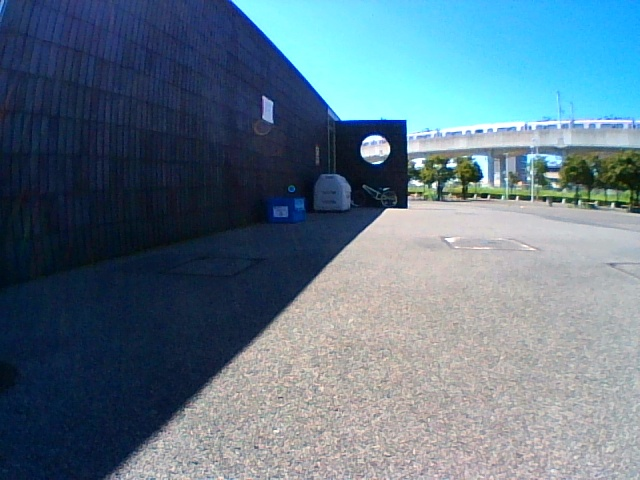blue_box: (268, 198, 304, 221)
tag: (274, 207, 287, 218)
